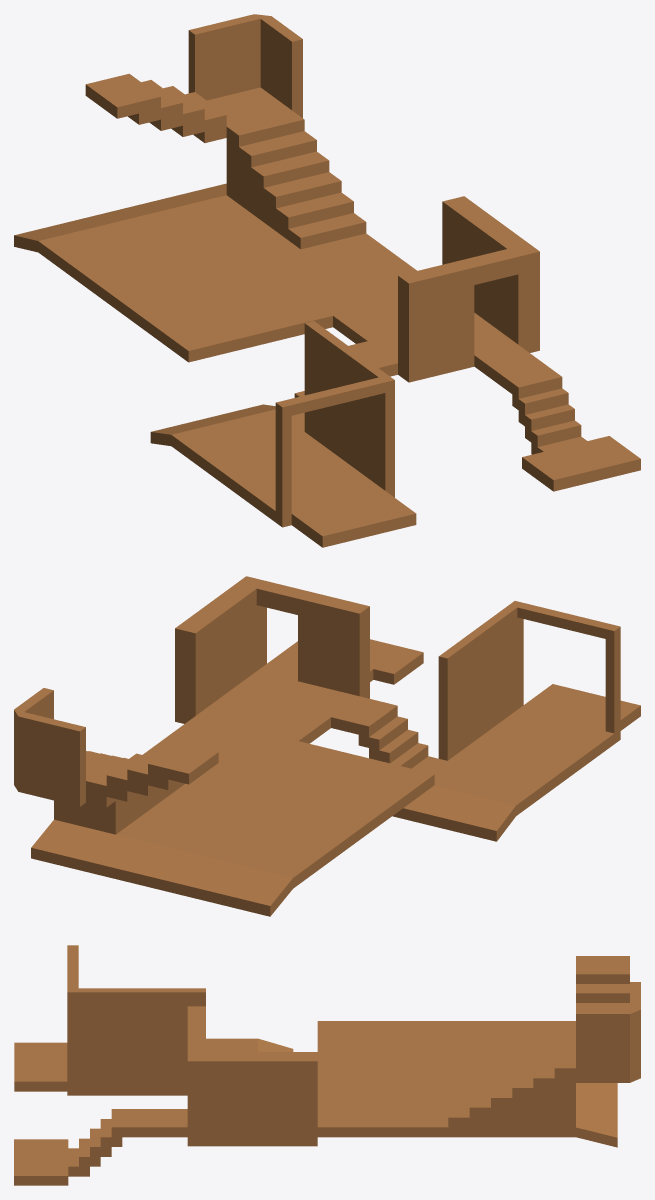
Rendered from Map.fbx.
3 renders of one model, top to bottom at view 1: azimuth 30°, elevation 25°; view 2: azimuth 150°, elevation 25°; view 3: azimuth 270°, elevation 25°, orthographic. The views are drawn at different scales.
Visible parts, largest first — view 1: Cube; view 2: Cube; view 3: Cube.
Part boxes in pixels (x1,y1,x2,y2): Cube: (14,14,640,547); Cube: (14,576,640,916); Cube: (14,945,640,1185).
Bounding box in the file's own units: 5994 × 3612 × 11563.
